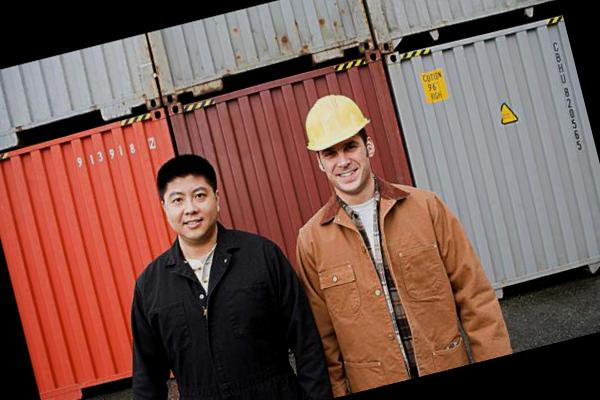no_helmet: (143, 138, 242, 250)
